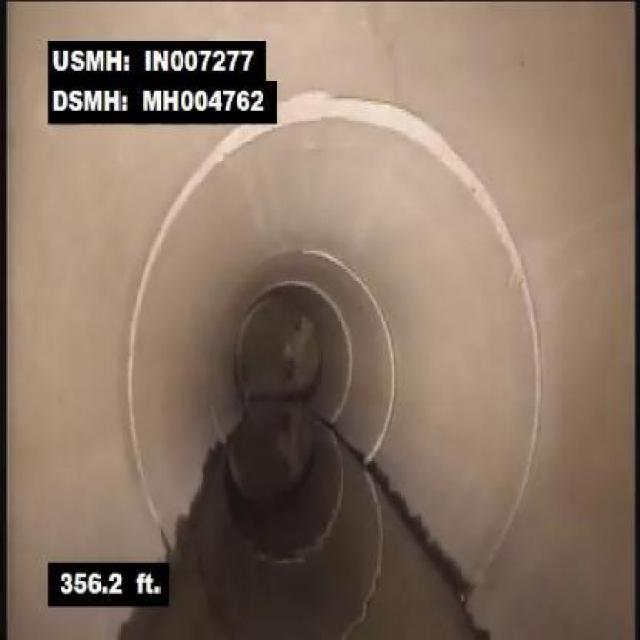Joint offset: (442, 138, 526, 280), (283, 92, 435, 145)
